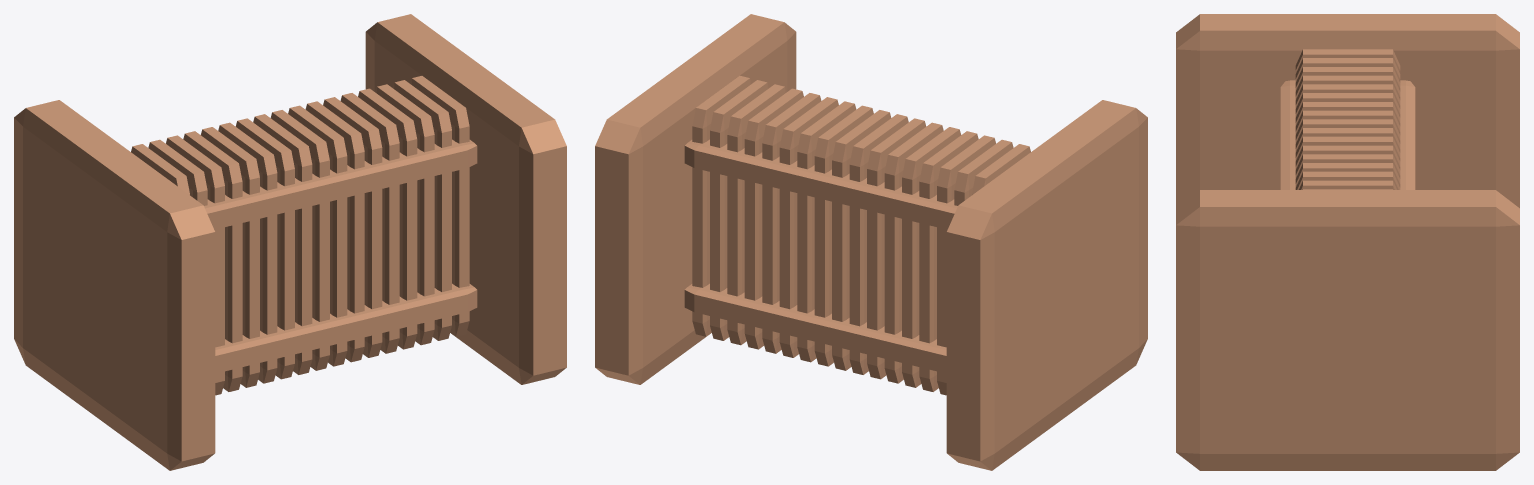
File: b19_cedar_fence_inside_corner.glb
3 views of the same model, side by side, from view 1: azimuth 30°, elevation 25°; view 2: azimuth 150°, elevation 25°; view 3: azimuth 270°, elevation 25° (orthographic). The views are drawn at different scales.
Parts seen in each view (by area): view 1: b19_cedar_fence_inside_corner; view 2: b19_cedar_fence_inside_corner; view 3: b19_cedar_fence_inside_corner.
Boxes of the visible parts, left/top/right/bottom form: b19_cedar_fence_inside_corner: left=14, top=14, right=566, bottom=470; b19_cedar_fence_inside_corner: left=595, top=14, right=1147, bottom=470; b19_cedar_fence_inside_corner: left=1176, top=14, right=1519, bottom=470.
Size of the model in its own units: 2.53 by 1.59 by 1.88.
